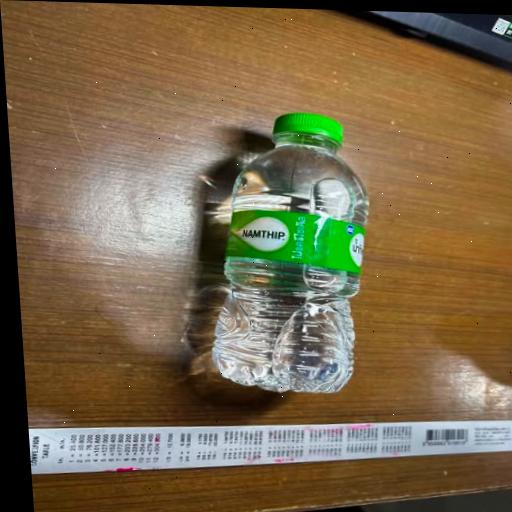bottle: (163, 83, 423, 412)
